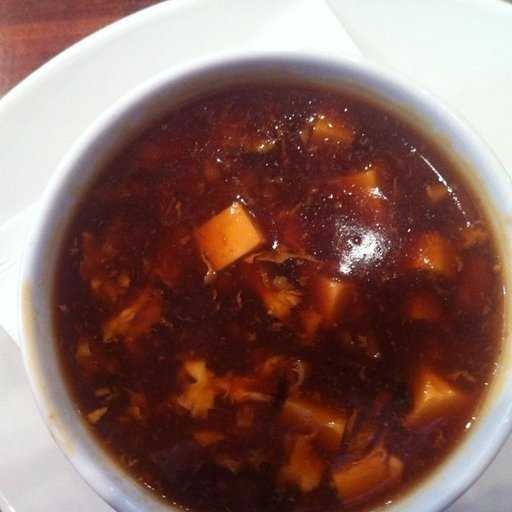soup: (15, 67, 501, 502)
